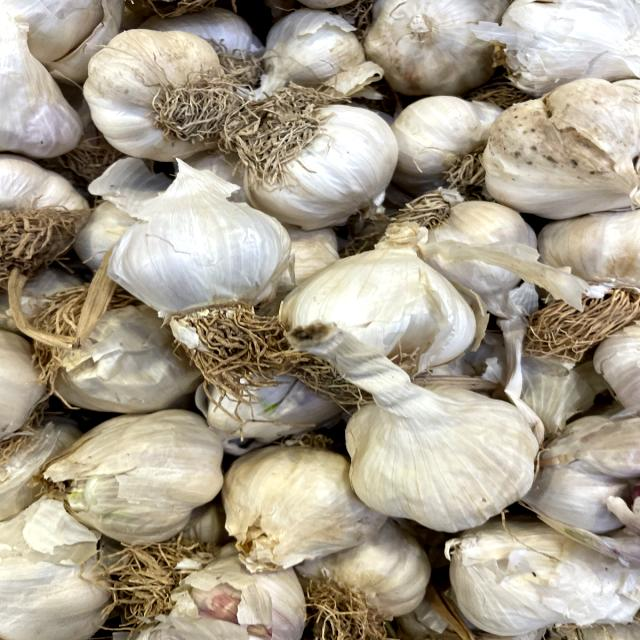garlic: (81, 171, 320, 385), (317, 326, 554, 533), (74, 20, 254, 182)
